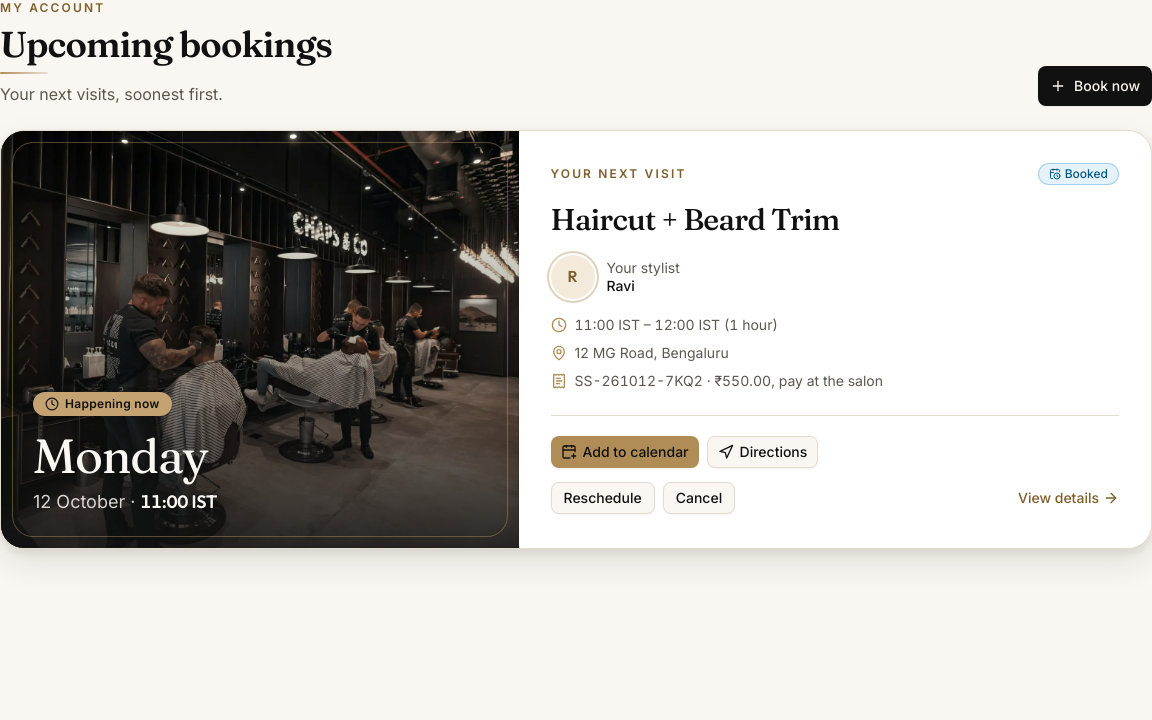
Test: customer account (05 §4.2) › a taken slot on reschedule asks for another time
Click the button "Reschedule": (603, 498) [550, 482, 655, 514]
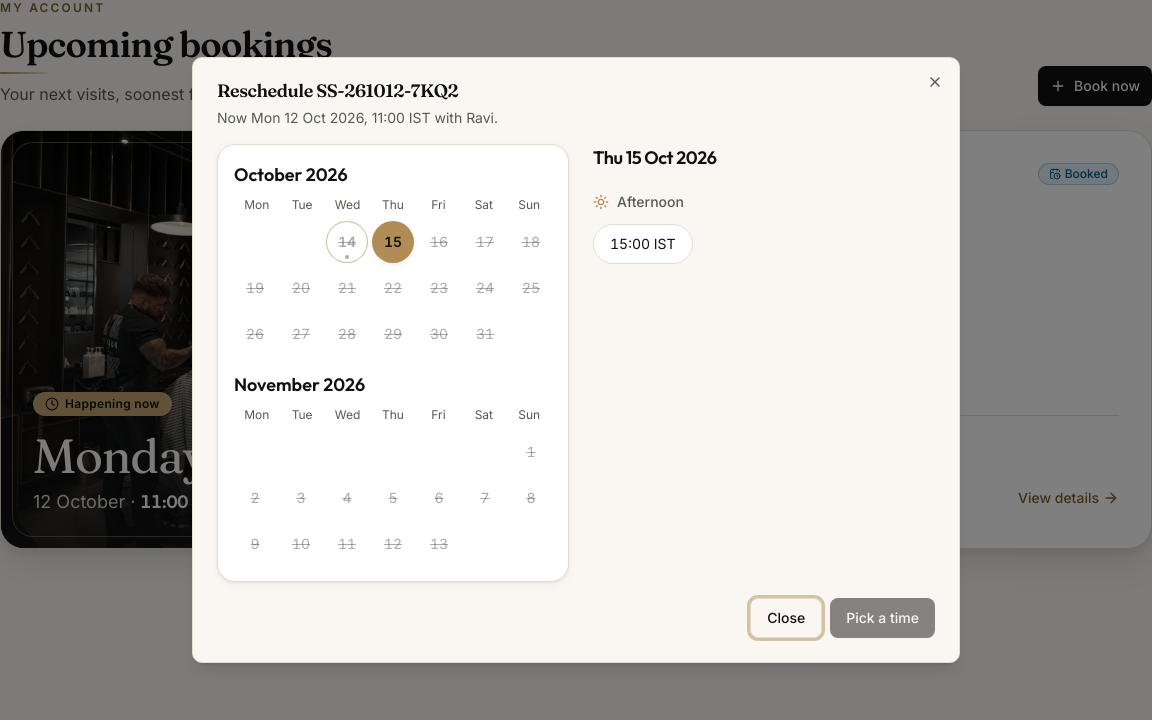
Click the button "15:00 IST": (643, 244) [593, 224, 692, 264]
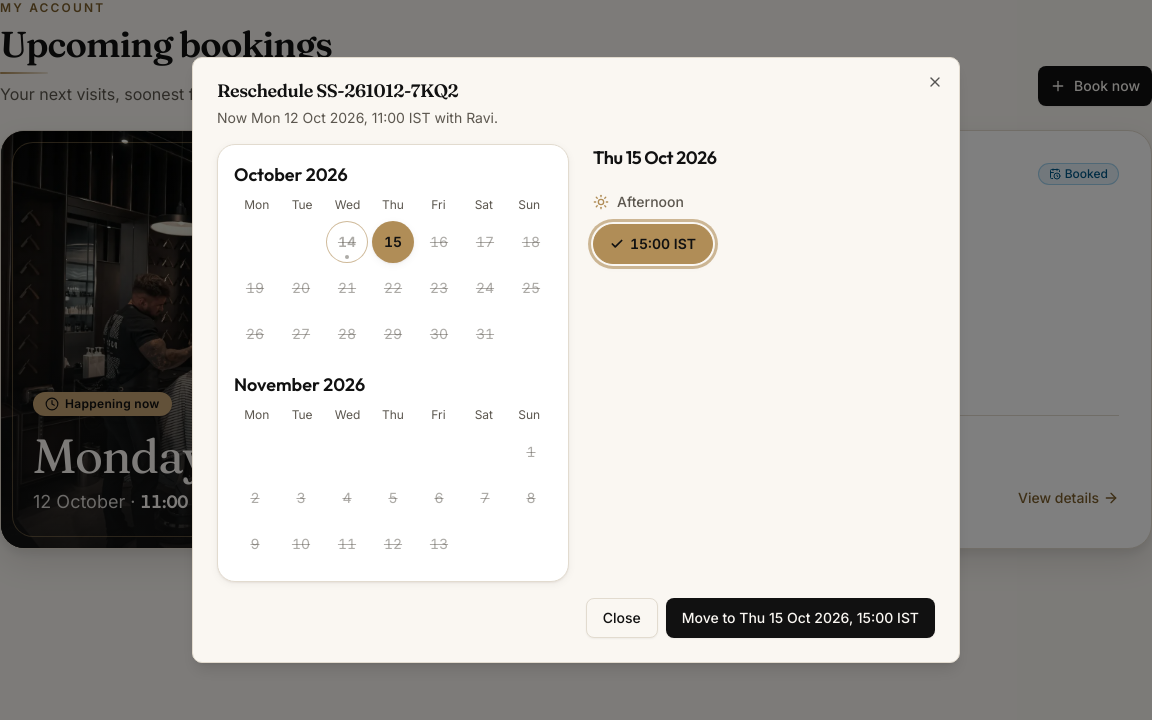
Click the button "Move to Thu 15 Oct 2026, 15:00 IST": (800, 618) [666, 598, 935, 638]
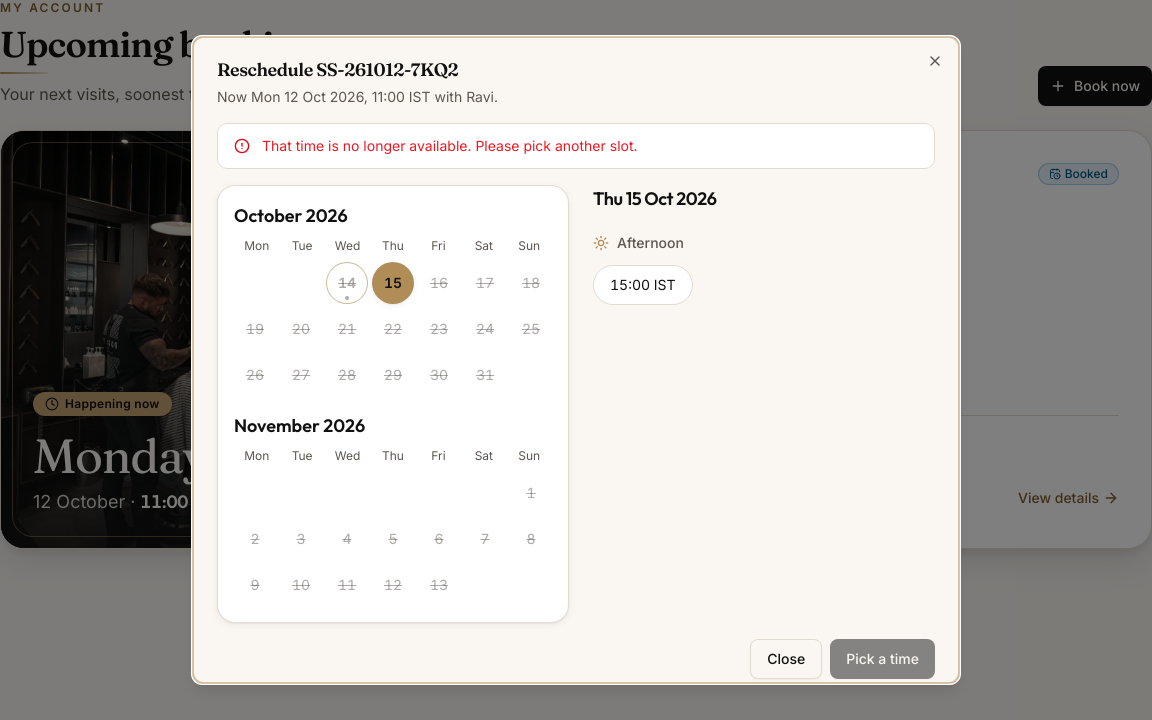
expect the message shows "no longer available": met, box [262, 137, 638, 154]
expect the button "Pick a time" is disabled: met, box [830, 639, 935, 679]
